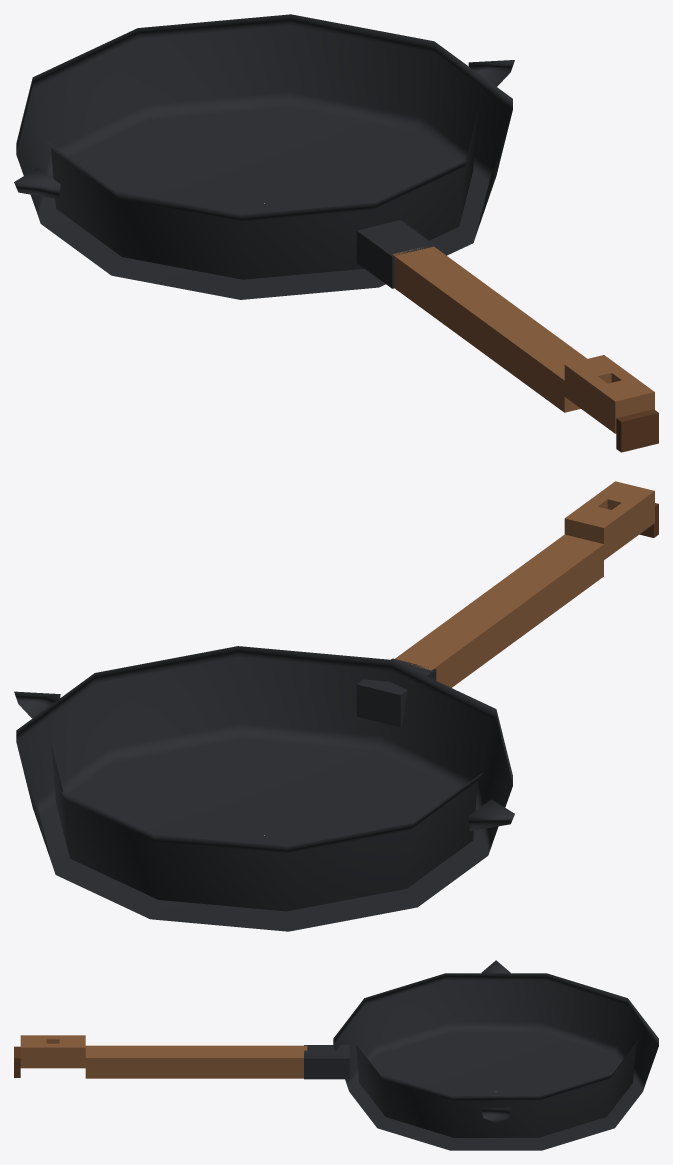
File: camp-skillet.glb
The picture shows the model from 3 angles, top to bottom: view 1: azimuth 30°, elevation 25°; view 2: azimuth 150°, elevation 25°; view 3: azimuth 270°, elevation 25°; orthographic projection. The views are drawn at different scales.
Parts seen in each view (by area): view 1: Pan Body, Wooden Handle Grip, Hang Hole Tip, Handle Metal Socket, Wooden Handle Grip__pivot, Pour Spout Left, Pour Spout Right; view 2: Pan Body, Wooden Handle Grip, Hang Hole Tip, Handle Metal Socket, Pour Spout Left, Pour Spout Right; view 3: Pan Body, Wooden Handle Grip, Hang Hole Tip, Handle Metal Socket, Pour Spout Right.
Part boxes in pixels (bbox=[...]): Pan Body: bbox=[16, 14, 512, 299]; Wooden Handle Grip: bbox=[392, 246, 587, 412]; Hang Hole Tip: bbox=[564, 355, 654, 433]; Handle Metal Socket: bbox=[356, 220, 436, 288]; Wooden Handle Grip__pivot: bbox=[616, 409, 658, 452]; Pour Spout Left: bbox=[14, 167, 60, 199]; Pour Spout Right: bbox=[468, 60, 514, 86]; Pan Body: bbox=[16, 646, 512, 931]; Wooden Handle Grip: bbox=[395, 534, 603, 687]; Hang Hole Tip: bbox=[564, 481, 654, 559]; Handle Metal Socket: bbox=[356, 658, 436, 727]; Pour Spout Left: bbox=[468, 799, 514, 830]; Pour Spout Right: bbox=[14, 691, 60, 718]; Pan Body: bbox=[333, 973, 658, 1150]; Wooden Handle Grip: bbox=[85, 1045, 307, 1078]; Hang Hole Tip: bbox=[20, 1035, 85, 1068]; Handle Metal Socket: bbox=[304, 1045, 349, 1079]; Pour Spout Right: bbox=[481, 1107, 510, 1122].
Size of the model in its own units: 1.14 by 0.18 by 1.98.
